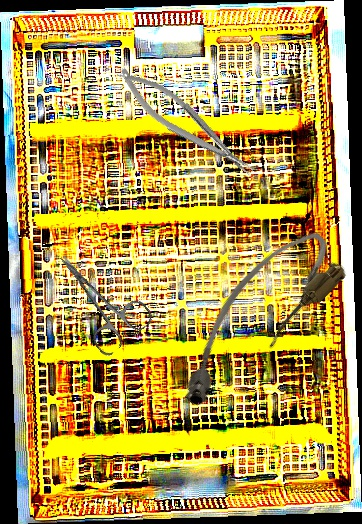Cannula: (154, 218, 354, 418)
Iris Scissors: (38, 235, 157, 359)
Needle Holder: (110, 56, 260, 190)
